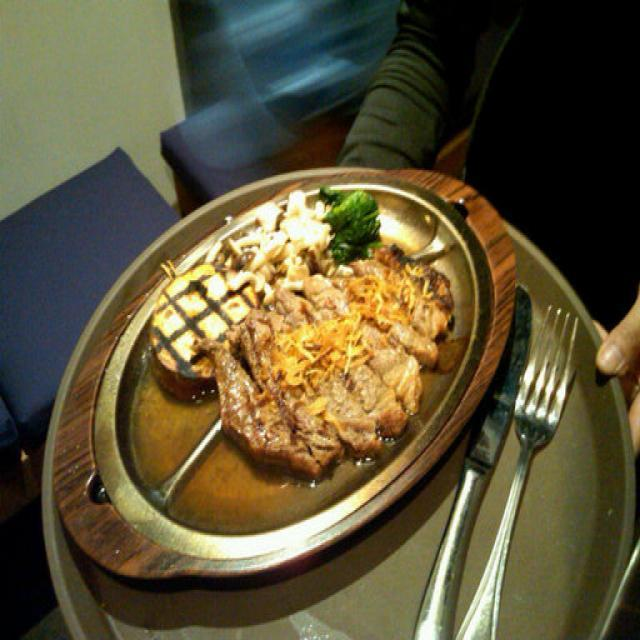Steak: (114, 195, 473, 477)
